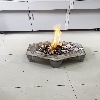fire: (42, 25, 64, 52)
